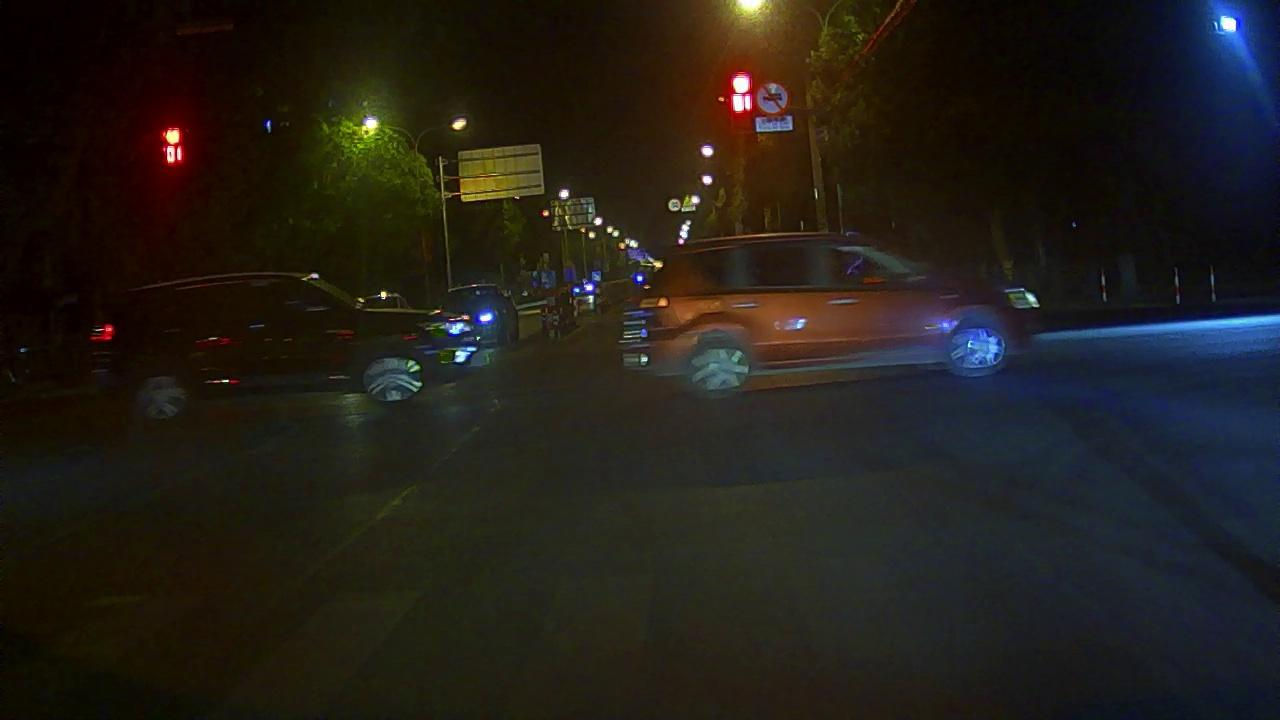traffic_light: (159, 120, 190, 172), (729, 66, 754, 128)
